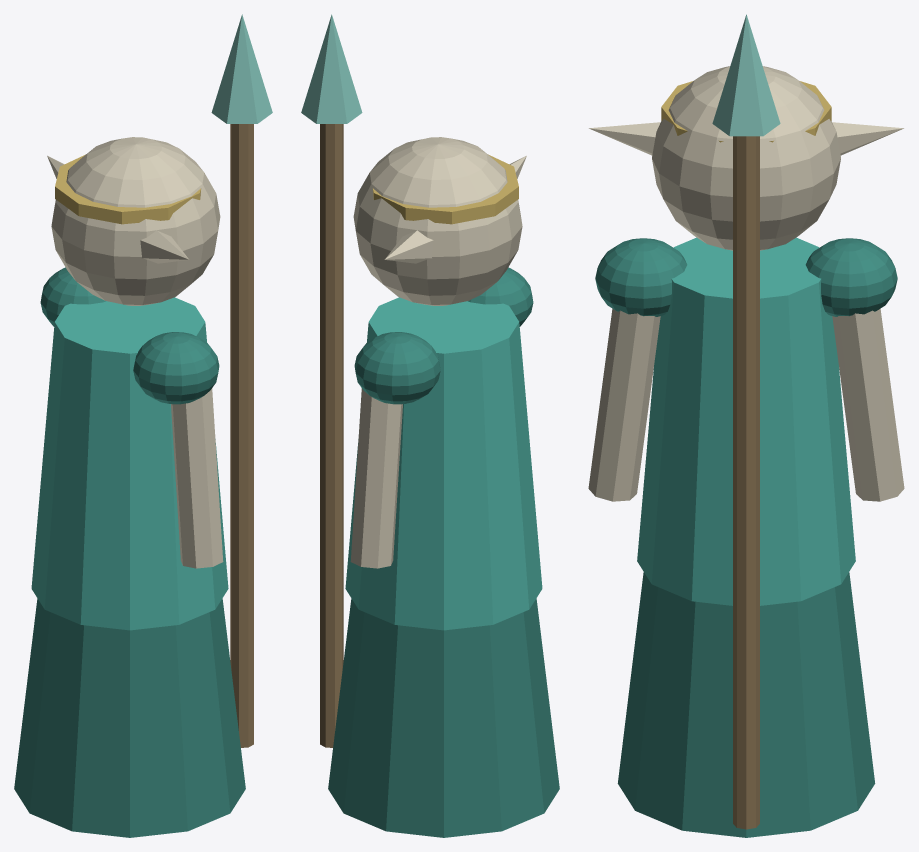
File: hero_yllien_3.glb
3 views of the same model, side by side, from view 1: azimuth 30°, elevation 25°; view 2: azimuth 150°, elevation 25°; view 3: azimuth 270°, elevation 25° (orthographic). The views are drawn at different scales.
Visible parts, largest first — view 1: figurka; view 2: figurka; view 3: figurka.
Part boxes in pixels (box(x1,y1,x2,y2)): figurka: box(14, 14, 272, 837); figurka: box(301, 14, 559, 837); figurka: box(588, 14, 904, 837).
Bounding box in the file's own units: 0.399 × 1.21 × 0.4183.
